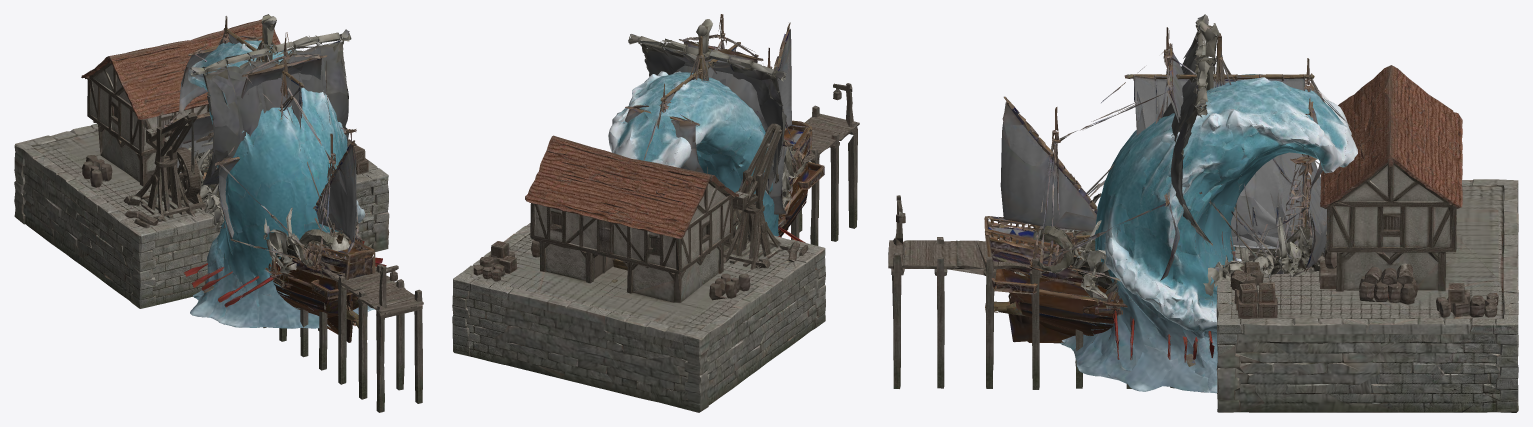
File: ports.glb
3 views of the same model, side by side, from view 1: azimuth 30°, elevation 25°; view 2: azimuth 150°, elevation 25°; view 3: azimuth 270°, elevation 25° (orthographic). The views are drawn at different scales.
Visible parts, largest first — view 1: Port, Boat_WaterElemental, Boat_Greatship, Boat_Boneship, Boat_Warship, Ship; view 2: Port, Boat_WaterElemental, Boat_Greatship, Boat_Boneship, Ship; view 3: Port, Boat_WaterElemental, Boat_Greatship, Boat_Boneship, Ship, Boat_Warship.
Boxes of the visible parts, left/top/right/bottom form: Port: left=14, top=19, right=423, bottom=412; Boat_WaterElemental: left=184, top=40, right=374, bottom=328; Boat_Greatship: left=164, top=16, right=375, bottom=342; Boat_Boneship: left=188, top=14, right=372, bottom=277; Boat_Warship: left=184, top=169, right=386, bottom=328; Ship: left=205, top=22, right=343, bottom=256; Port: left=452, top=83, right=859, bottom=412; Boat_WaterElemental: left=608, top=71, right=778, bottom=236; Boat_Greatship: left=623, top=14, right=824, bottom=236; Boat_Boneship: left=628, top=19, right=807, bottom=230; Ship: left=612, top=35, right=740, bottom=270; Port: left=888, top=65, right=1518, bottom=412; Boat_WaterElemental: left=1059, top=74, right=1357, bottom=393; Boat_Greatship: left=984, top=27, right=1357, bottom=343; Boat_Boneship: left=1015, top=14, right=1326, bottom=309; Ship: left=1033, top=33, right=1325, bottom=330; Boat_Warship: left=985, top=191, right=1268, bottom=362.
Bounding box in the file's own units: 1.66 × 1.89 × 3.04.
12 materials, 12 textured.
